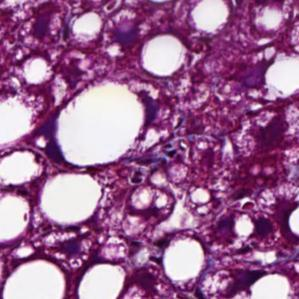inflammation: (14, 2, 74, 49), (221, 53, 271, 96), (149, 128, 196, 166), (201, 209, 241, 248), (252, 213, 289, 250)
